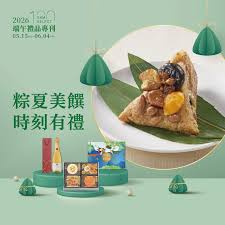zongzi: (119, 51, 198, 134)
